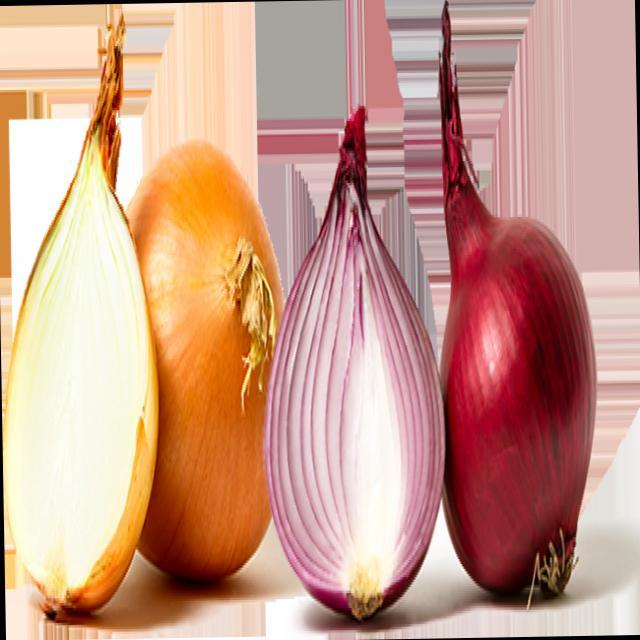ONIONS: (258, 32, 446, 622), (435, 0, 604, 606), (0, 88, 157, 640), (132, 30, 280, 578)
